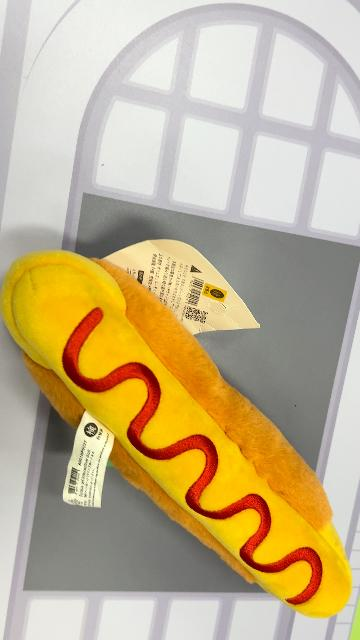hotdog: (3, 248, 354, 620)
